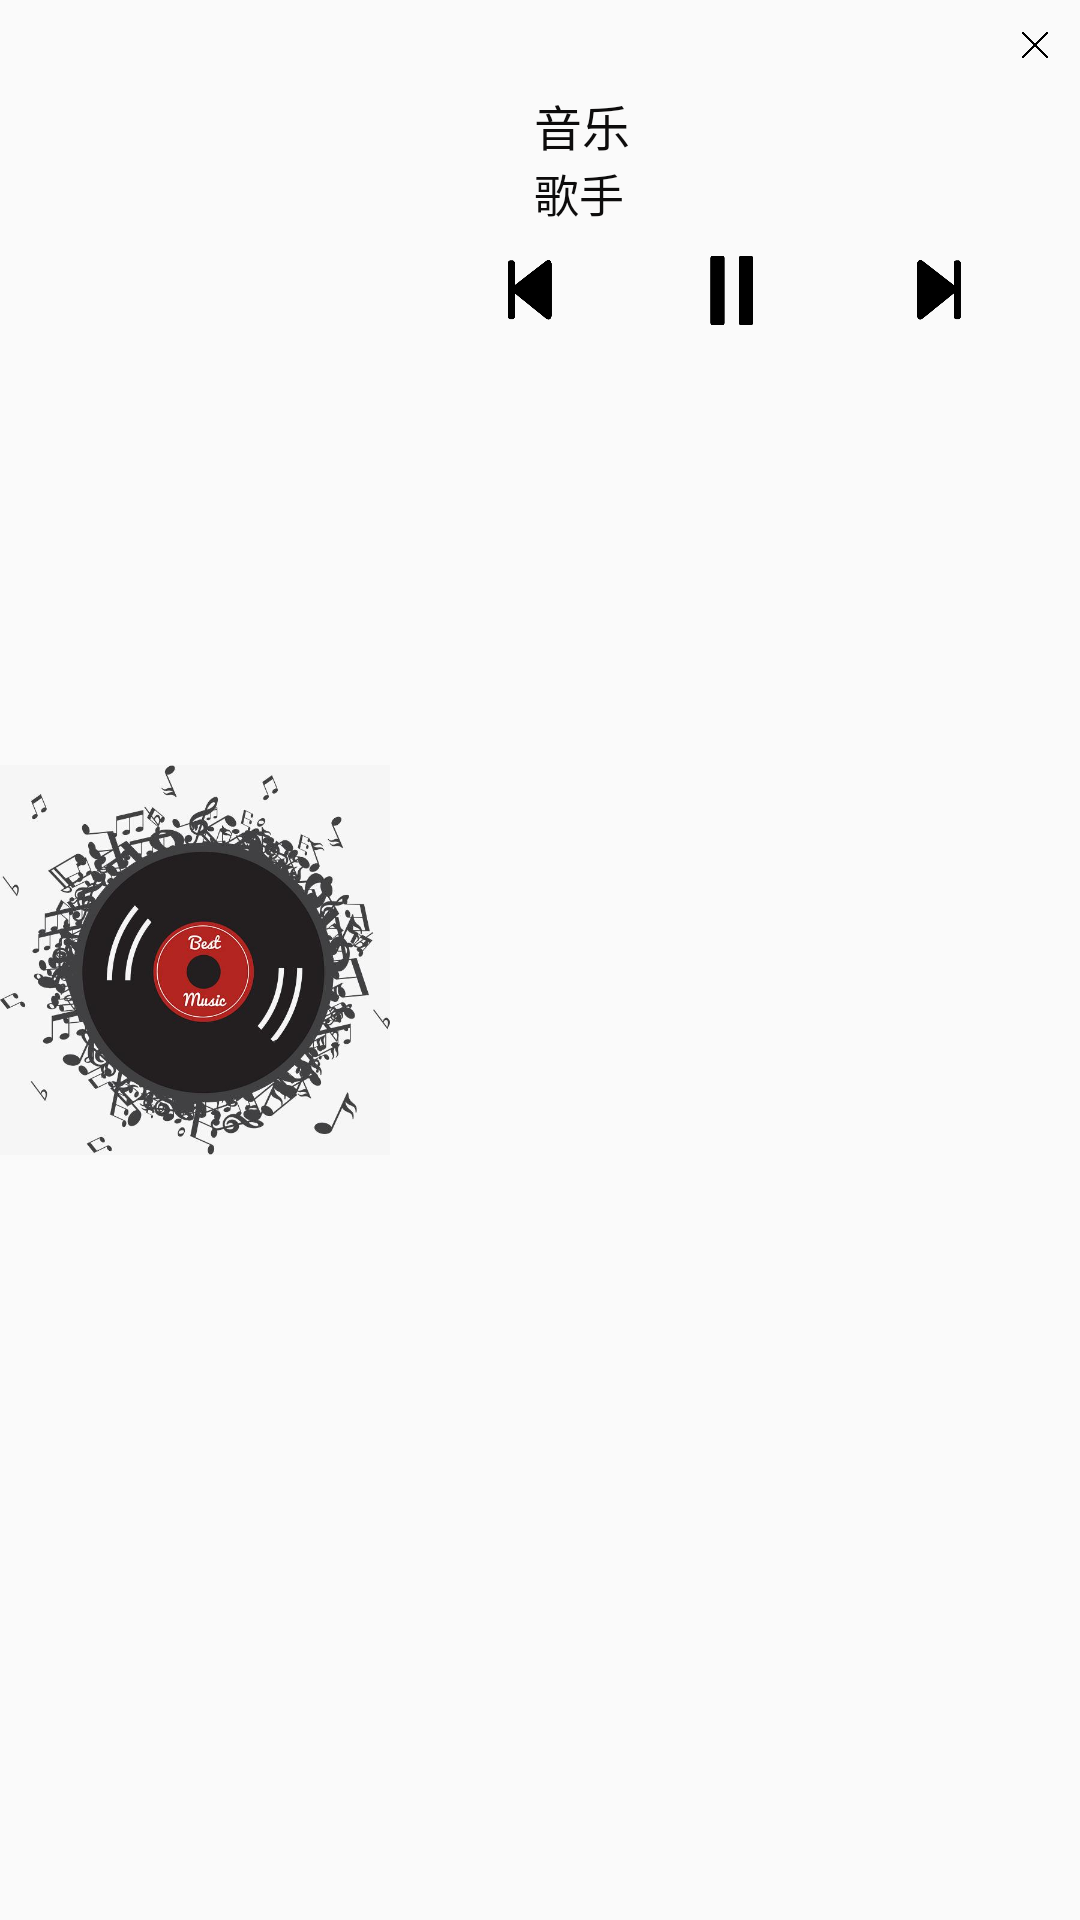

Named icons in this screenshot (1080*1920) and their centers, (x=x, y=y):
next: (x=939, y=290)
previous: (x=530, y=290)
quit: (x=1035, y=45)
